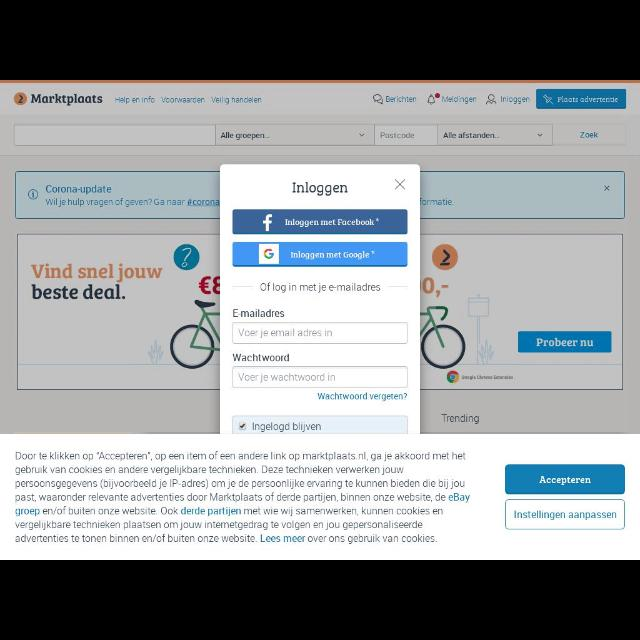checkbox: (238, 422, 246, 428)
icon: (394, 178, 406, 194), (28, 188, 38, 200), (536, 132, 546, 138), (358, 132, 366, 138), (604, 184, 610, 192)
iframe: (2, 434, 640, 556)
image: (11, 91, 104, 105)
input: (233, 365, 409, 389), (232, 322, 408, 344), (233, 414, 407, 434)
spinner: (217, 125, 376, 145), (438, 125, 554, 145)
text: (15, 448, 471, 542), (45, 197, 218, 207), (260, 282, 382, 294), (238, 372, 338, 384), (291, 182, 349, 198), (318, 392, 408, 402), (252, 421, 322, 432), (237, 328, 333, 336), (46, 184, 114, 194), (232, 353, 290, 363), (443, 132, 501, 140), (232, 310, 286, 318), (212, 97, 262, 105), (115, 95, 154, 105), (162, 96, 206, 104), (442, 96, 476, 105), (385, 96, 417, 104), (502, 97, 530, 105), (580, 131, 598, 139)
textbutton: (232, 208, 408, 236), (232, 242, 408, 268), (504, 498, 626, 530), (507, 466, 625, 494), (536, 90, 628, 108), (220, 130, 270, 140), (380, 130, 414, 140)
toolbar: (3, 82, 639, 108)
